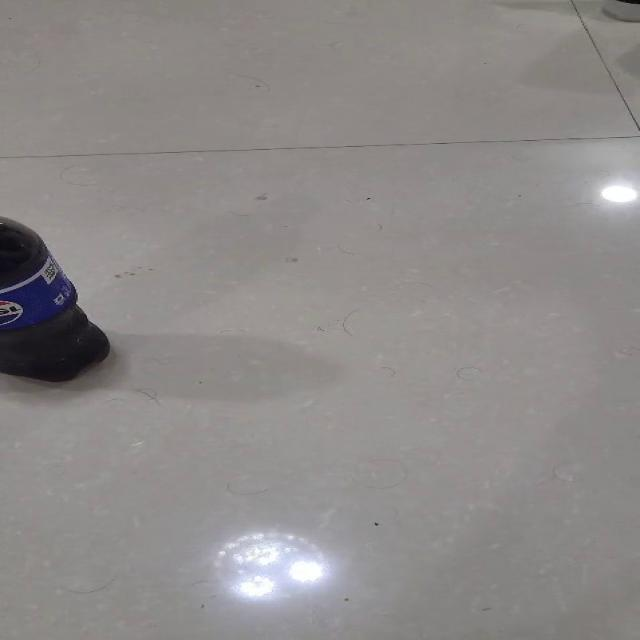plastic: (0, 215, 110, 382)
